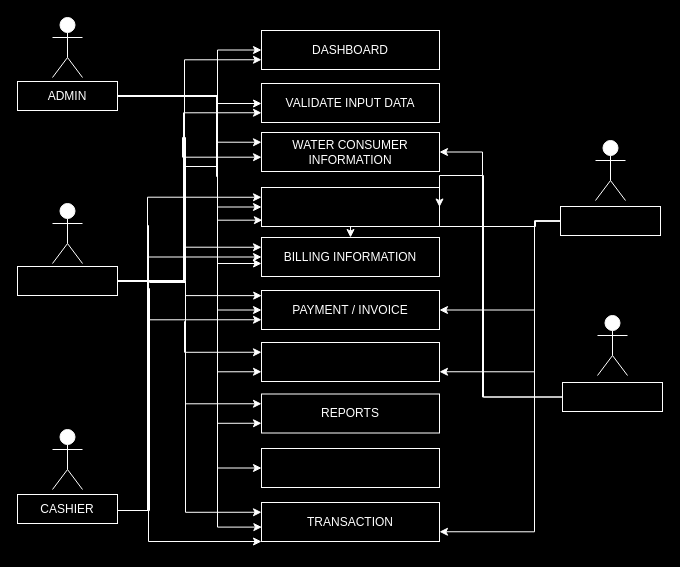
The diagram is 680 pixels wide and 567 high, and some of its shapes have lost their labels. Each missing label, with the centre of its shape:
"DATABASE BACKUP" belongs at point 350,468.
"MANAGER" belongs at point 67,281.
"SMS NOTIFICATION" belongs at point 350,362.
"WATER CONSUMER" belongs at point 610,221.
"WATER METER READER" belongs at point 612,397.
"WATER METER READER INFORMATION" belongs at point 350,206.
